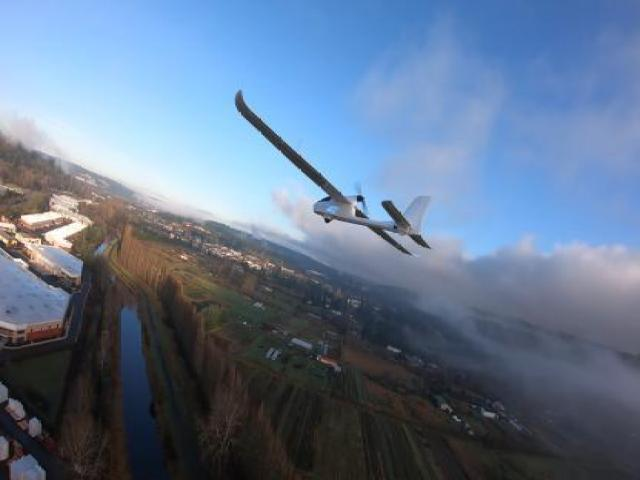uav: (230, 80, 438, 264)
